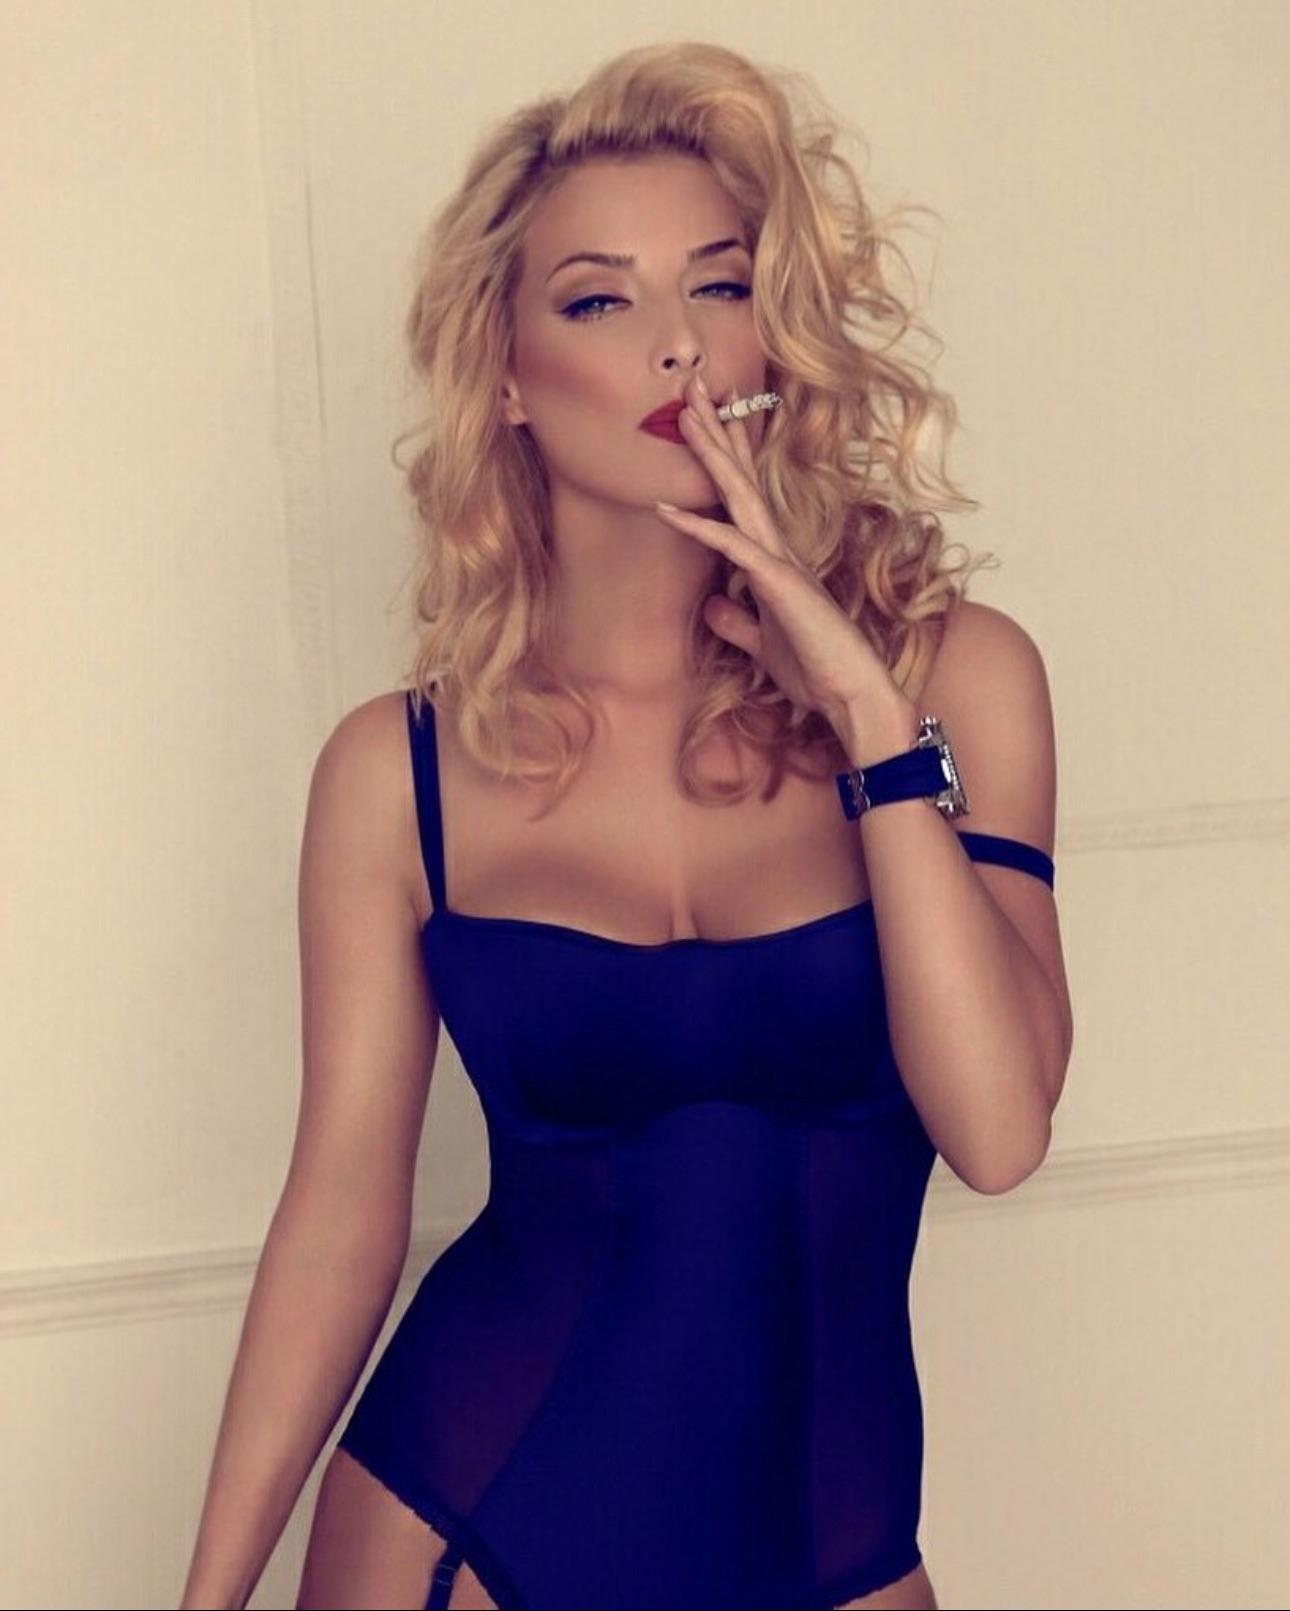cigarette: (715, 390, 783, 421)
